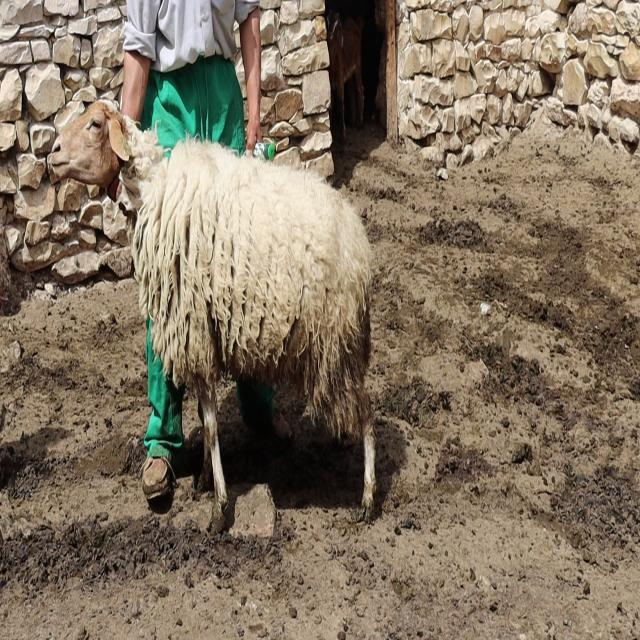Score_4: (48, 100, 376, 528)
